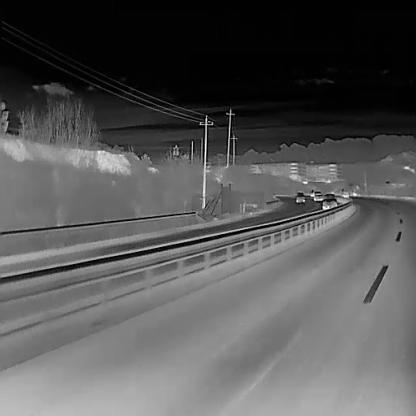car: (321, 193, 339, 211), (294, 191, 305, 203), (312, 190, 323, 201), (339, 188, 349, 198), (308, 189, 315, 197), (350, 189, 357, 197)
